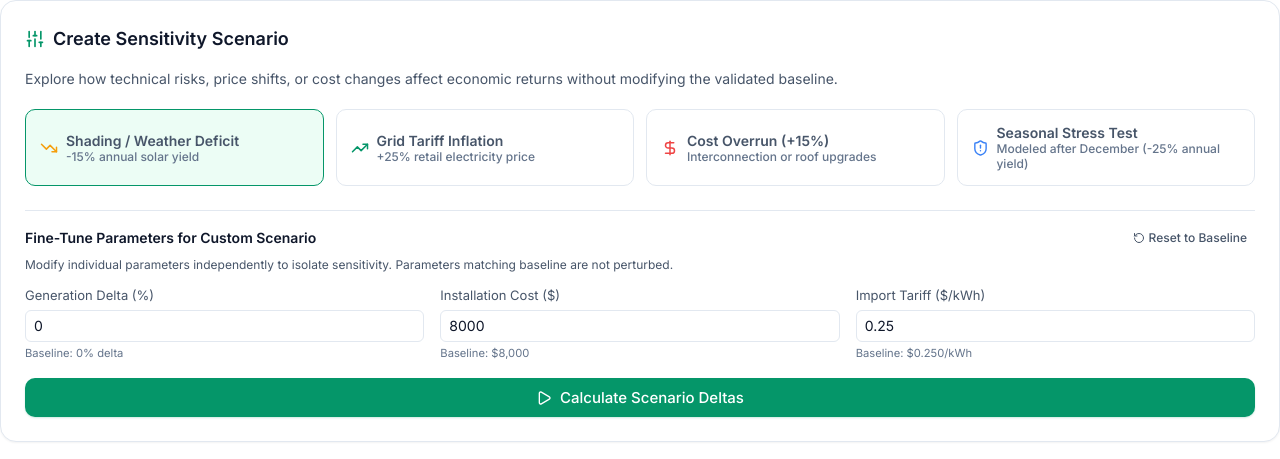
Scenario: ScenarioControls — Independent Parameter Adjustments & Isolation › resets fine-tune inputs back to baseline upon clicking Reset to Baseline
Replace the text in the number field with test id "custom-gen-input" with "-25": (225, 326) x1=25 y1=310 x2=424 y2=342
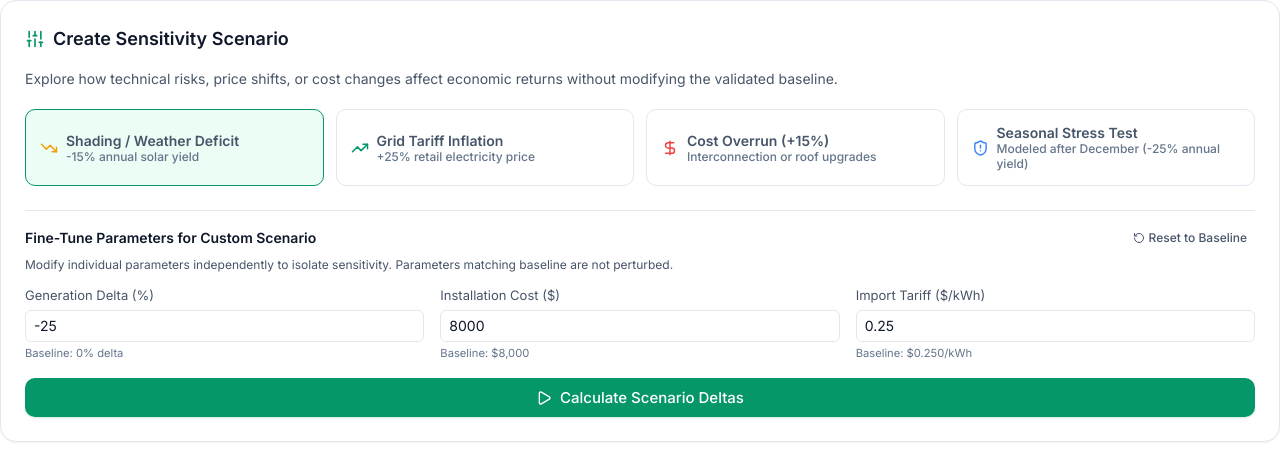
Replace the text in the number field with test id "custom-cost-input" with "11000": (640, 326) x1=440 y1=310 x2=840 y2=342
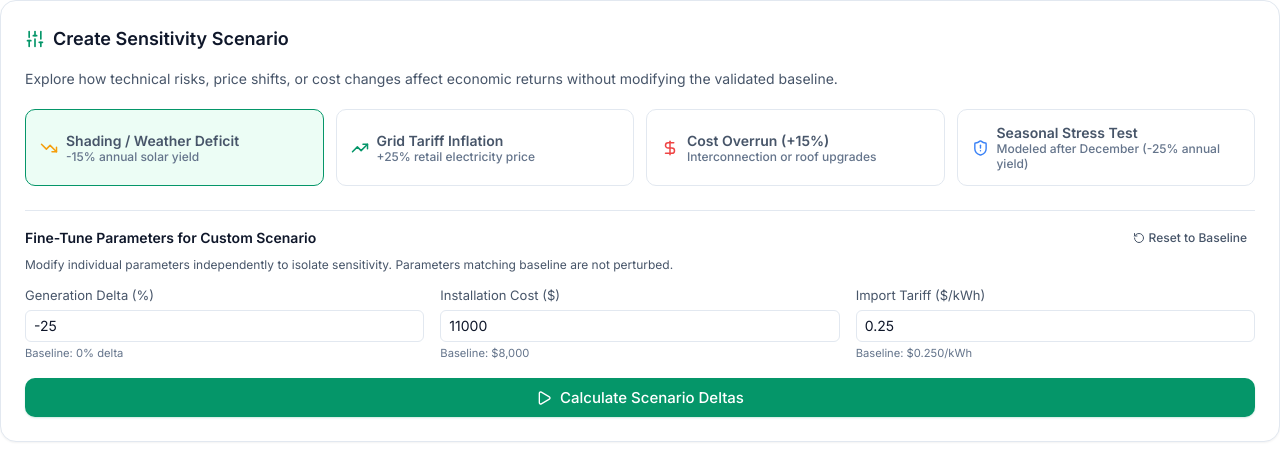
Replace the text in the number field with test id "custom-tariff-input" with "0.40": (1055, 326) x1=856 y1=310 x2=1255 y2=342
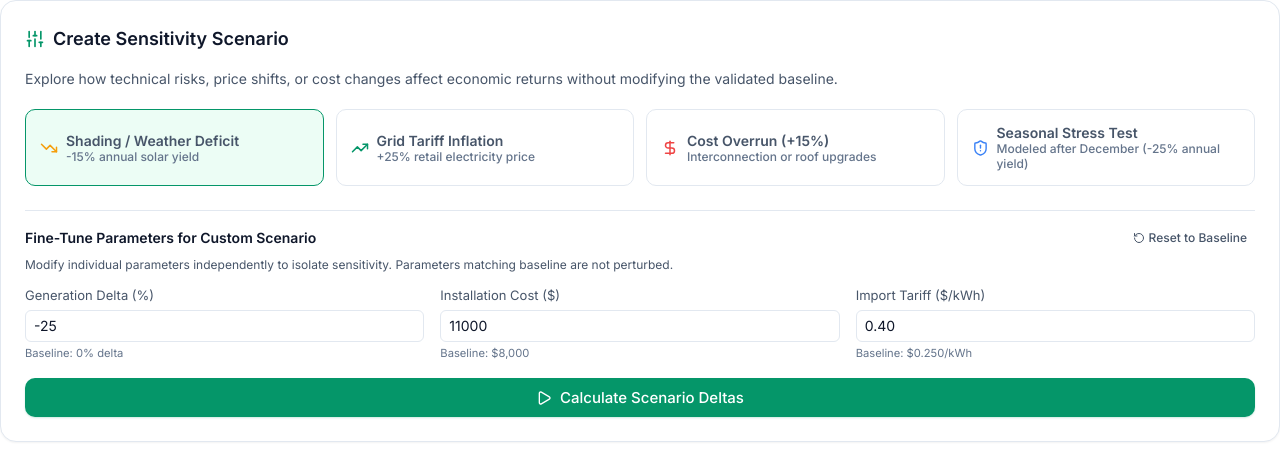
# Click reset
Click the button with test id "reset-custom-params-btn": click(1190, 238) x1=1125 y1=227 x2=1255 y2=248
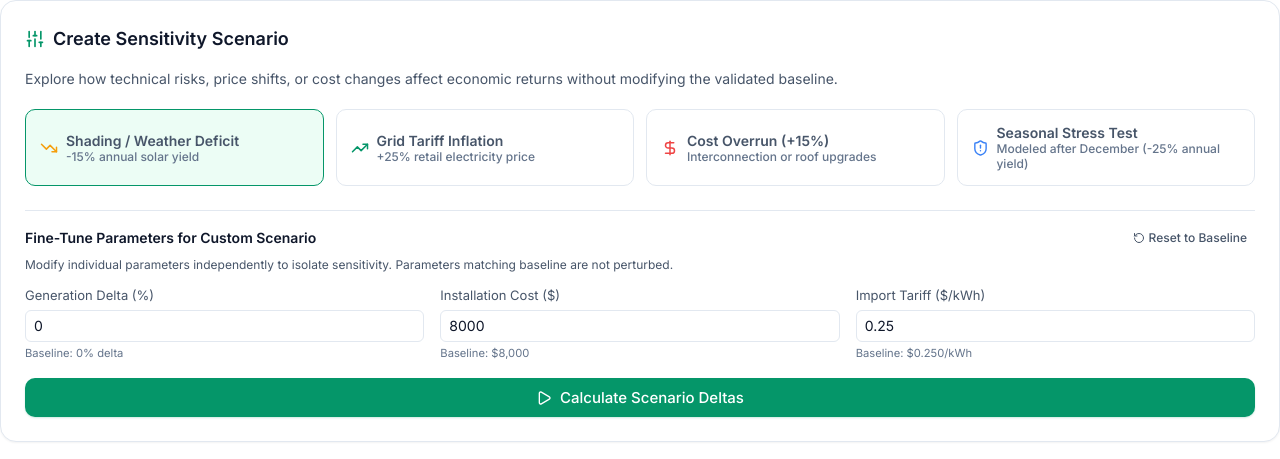
Check: the number field with test id "custom-gen-input" holds "0", box x1=25 y1=310 x2=424 y2=342
Check: the number field with test id "custom-cost-input" holds "8000", box x1=440 y1=310 x2=840 y2=342
Check: the number field with test id "custom-tariff-input" holds "0.25", box x1=856 y1=310 x2=1255 y2=342
